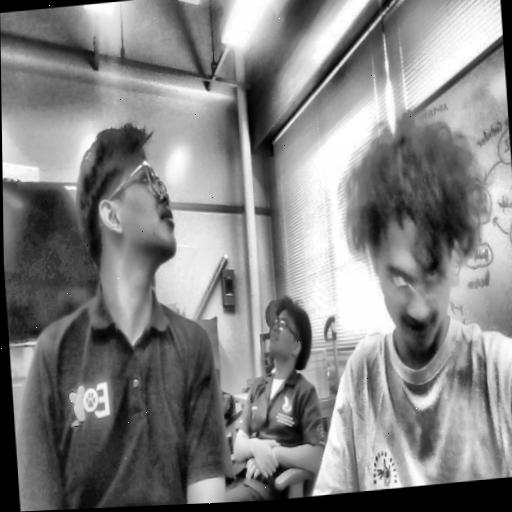Daifuku: (335, 104, 493, 352)
Not Daifuku: (76, 124, 175, 288), (255, 286, 318, 379)
